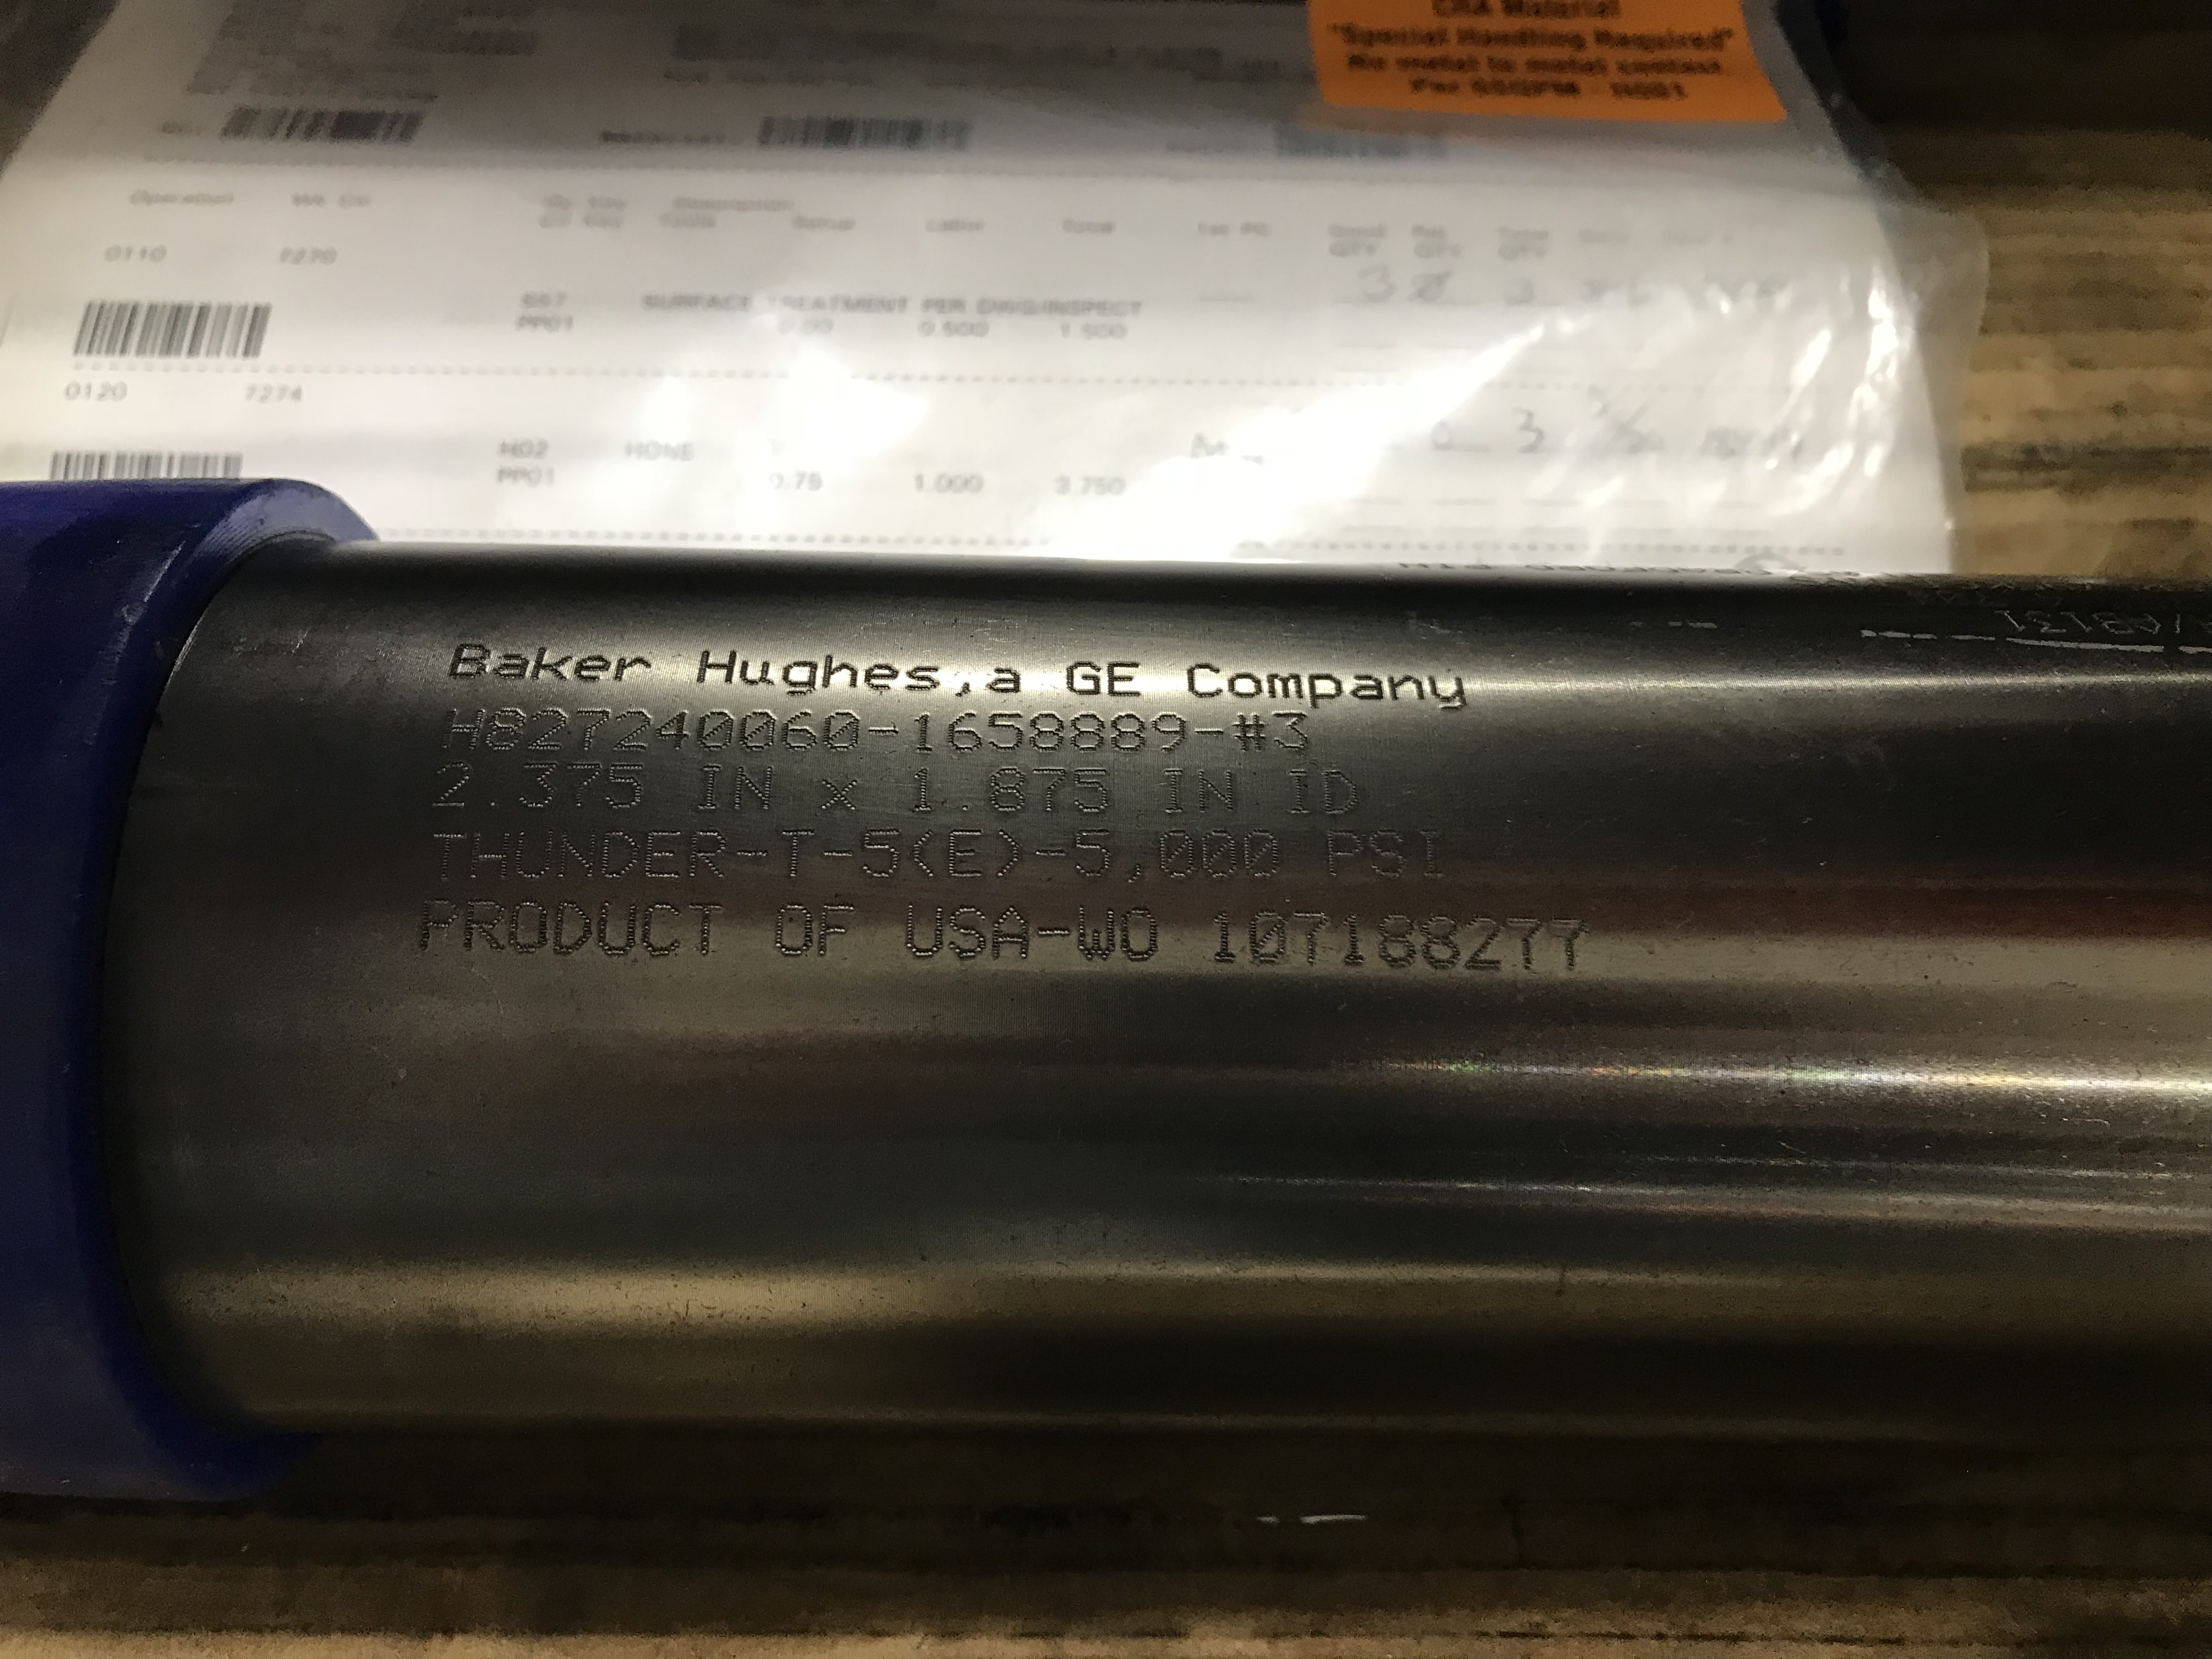character: (1414, 908, 1461, 979), (1372, 906, 1420, 974), (1113, 901, 1163, 964), (1069, 899, 1118, 964), (637, 899, 686, 962), (592, 897, 639, 962), (1543, 908, 1590, 972), (1461, 910, 1503, 981), (1244, 904, 1291, 967), (460, 894, 505, 957), (946, 901, 991, 964), (1503, 911, 1548, 974), (415, 897, 463, 955), (989, 903, 1031, 969), (1425, 671, 1480, 720), (1364, 824, 1411, 882), (509, 894, 550, 958), (813, 897, 855, 962), (859, 823, 904, 882), (1069, 824, 1115, 884), (512, 828, 556, 889), (772, 899, 815, 960), (1320, 821, 1364, 882), (552, 892, 592, 958), (552, 828, 599, 884), (1407, 824, 1453, 882), (639, 826, 683, 885), (775, 823, 817, 884), (902, 901, 944, 962), (1240, 824, 1282, 885), (1291, 904, 1331, 967), (519, 758, 563, 816), (1069, 762, 1113, 819), (428, 824, 470, 884), (437, 706, 486, 756), (815, 706, 864, 756), (606, 706, 653, 758), (1200, 824, 1240, 885), (606, 758, 650, 814), (1317, 763, 1360, 819), (469, 828, 510, 885), (691, 706, 737, 758), (986, 765, 1031, 817), (568, 701, 611, 755), (686, 897, 725, 958), (599, 826, 641, 882), (688, 828, 730, 884), (773, 709, 820, 758), (944, 828, 988, 880), (1270, 709, 1313, 762), (430, 762, 472, 816), (564, 758, 604, 814), (1193, 767, 1240, 814), (732, 763, 777, 812), (1031, 762, 1071, 816), (486, 706, 524, 762), (446, 638, 489, 687), (1332, 908, 1367, 969), (529, 641, 571, 692), (735, 706, 777, 756), (1207, 906, 1240, 969), (1282, 765, 1317, 824), (695, 643, 738, 690), (524, 706, 568, 753), (653, 708, 693, 758), (1146, 708, 1186, 758), (1160, 826, 1198, 878), (780, 657, 822, 704), (817, 775, 864, 817), (1026, 709, 1066, 758), (984, 662, 1028, 706), (986, 706, 1028, 751), (1064, 706, 1106, 751), (819, 648, 857, 697), (1231, 706, 1268, 756), (904, 765, 937, 821), (1264, 662, 1306, 706), (1308, 666, 1343, 718), (1064, 653, 1104, 699), (1186, 657, 1226, 702), (944, 709, 984, 755), (1104, 711, 1144, 756), (904, 828, 937, 882), (1385, 666, 1425, 709), (611, 648, 657, 687), (1350, 666, 1386, 713), (1103, 657, 1143, 699), (1226, 666, 1266, 708), (1158, 765, 1191, 816), (864, 657, 900, 699), (993, 828, 1021, 882), (737, 653, 775, 692), (904, 662, 944, 699), (693, 760, 721, 812), (914, 709, 944, 758), (573, 650, 610, 688), (495, 648, 529, 688), (1038, 922, 1071, 945), (735, 843, 770, 864), (953, 791, 975, 821), (864, 723, 899, 742), (820, 843, 853, 863), (1033, 845, 1068, 863), (1190, 723, 1224, 739), (486, 793, 505, 817)
